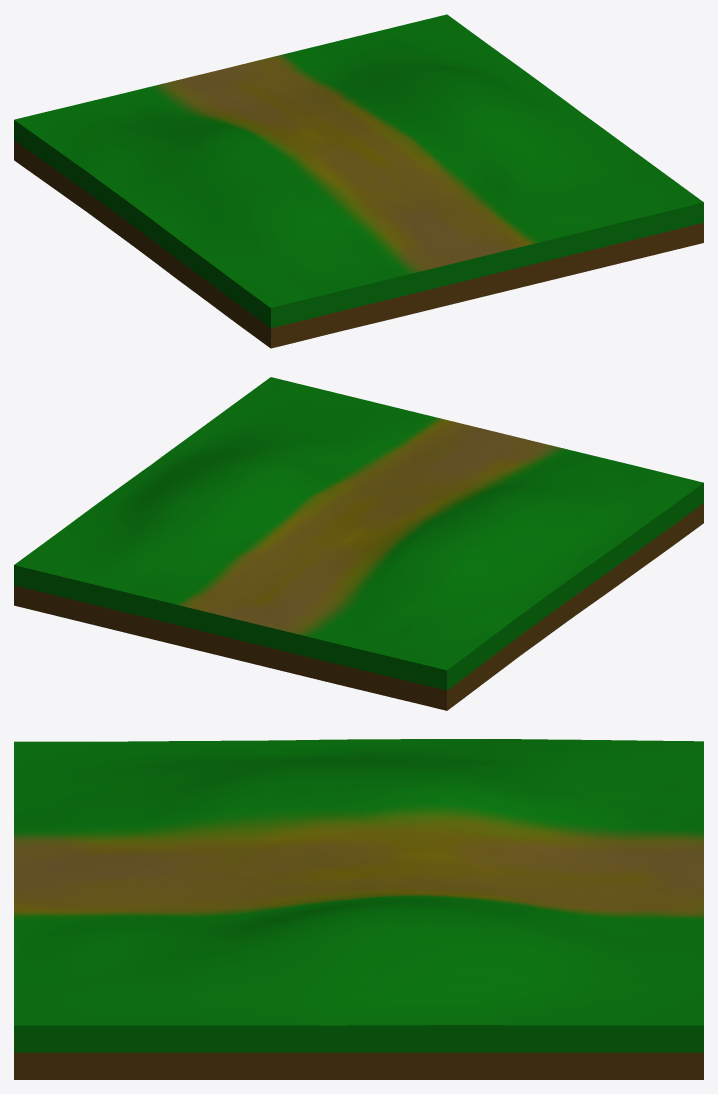
Rendered from Land_2(Fix).fbx.
3 renders of one model, top to bottom at view 1: azimuth 30°, elevation 25°; view 2: azimuth 150°, elevation 25°; view 3: azimuth 270°, elevation 25°, orthographic. The views are drawn at different scales.
Parts seen in each view (by area): view 1: Plane.003; view 2: Plane.003; view 3: Plane.003.
Boxes of the visible parts, x1,y1,x2,y2 form: Plane.003: [14, 14, 703, 348]; Plane.003: [14, 377, 703, 710]; Plane.003: [14, 739, 703, 1079].
Bounding box in the file's own units: 4296 × 651 × 4411.
